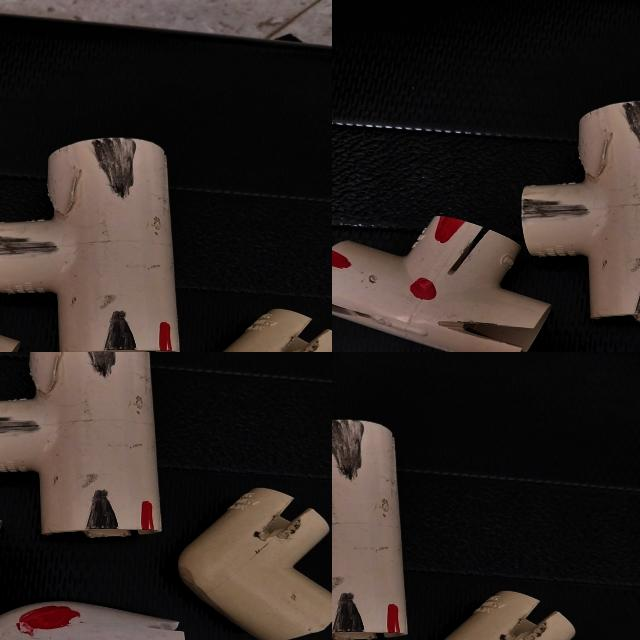Defective: (332, 420, 371, 482), (333, 592, 368, 640), (369, 0, 394, 22), (385, 604, 401, 636), (364, 16, 376, 40), (390, 12, 396, 35)
L Joint: (424, 596, 585, 640)
T Joint: (332, 420, 402, 640), (362, 0, 411, 42)
